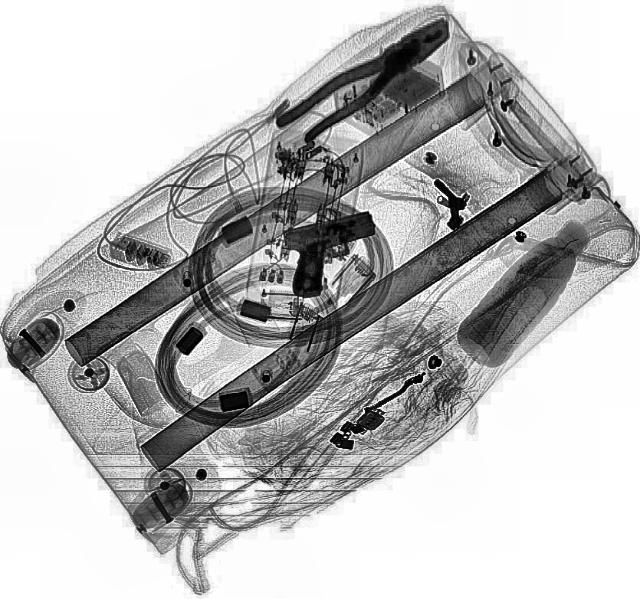Gun: (272, 210, 390, 298)
Pliers: (271, 6, 461, 150)
